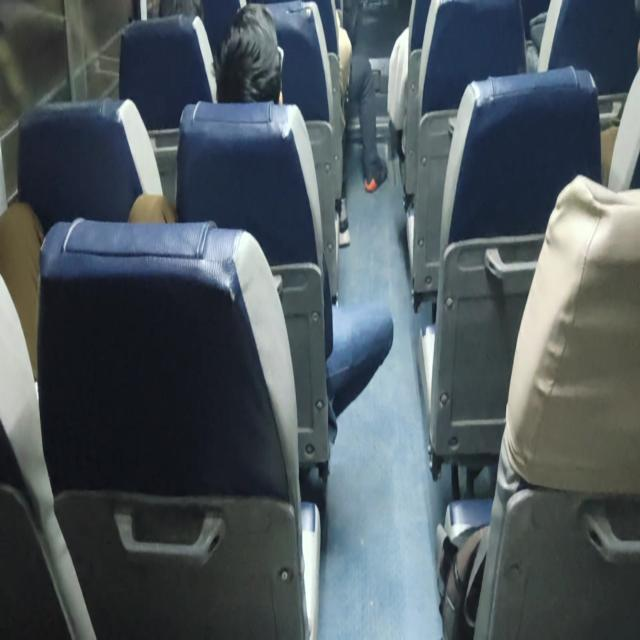person: (218, 16, 286, 112)
